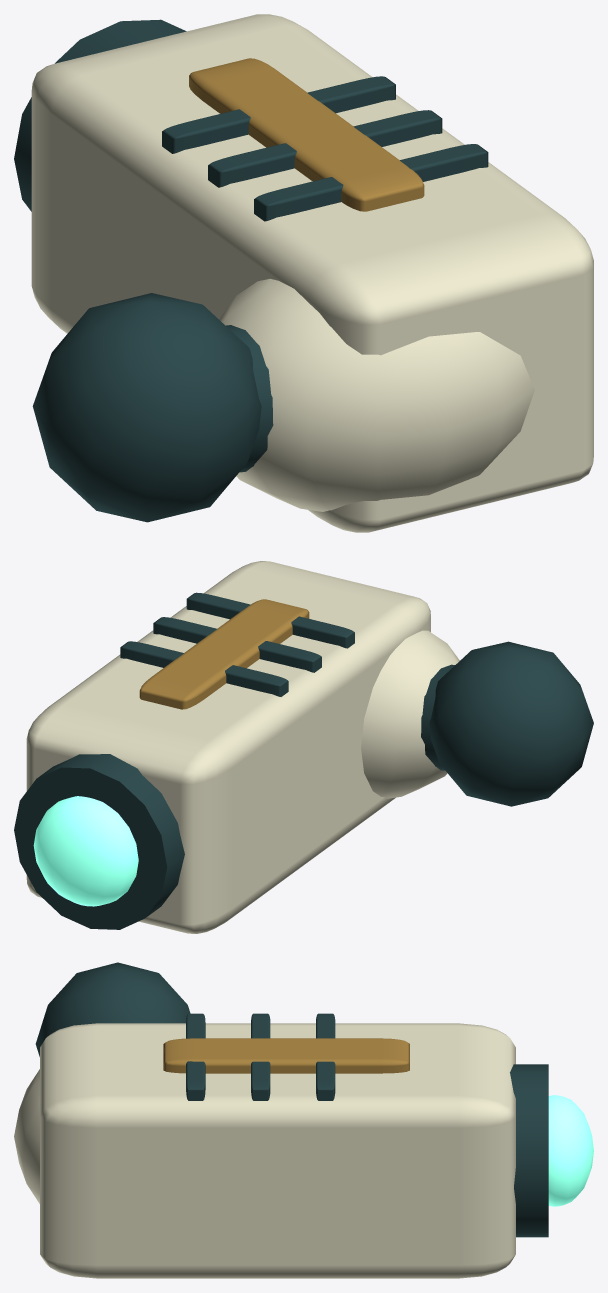
Rendered from arm-seed.glb.
3 views of the same model, one above another, from view 1: azimuth 30°, elevation 25°; view 2: azimuth 150°, elevation 25°; view 3: azimuth 270°, elevation 25° (orthographic). The views are drawn at different scales.
Visible parts, largest first — view 1: seed-barrel, sleeve, socket, gold-ridge, barrel-rib (×3), muzzle, upper; view 2: seed-barrel, socket, muzzle, sleeve, seed-core, gold-ridge, barrel-rib (×3), upper; view 3: seed-barrel, gold-ridge, socket, muzzle, seed-core, barrel-rib (×3), sleeve.
Part boxes in pixels (left/top/right/bottom): seed-barrel: left=31, top=14, right=593, bottom=532; sleeve: left=219, top=278, right=534, bottom=511; socket: left=32, top=293, right=261, bottom=522; gold-ridge: left=189, top=58, right=424, bottom=211; barrel-rib (×3): left=162, top=76, right=488, bottom=221; muzzle: left=14, top=19, right=186, bottom=211; upper: left=226, top=325, right=273, bottom=472; seed-barrel: left=26, top=561, right=430, bottom=933; socket: left=429, top=641, right=593, bottom=806; muzzle: left=14, top=754, right=184, bottom=929; sleeve: left=361, top=630, right=459, bottom=798; seed-core: left=33, top=796, right=138, bottom=906; gold-ridge: left=139, top=599, right=309, bottom=709; barrel-rib (×3): left=120, top=592, right=354, bottom=696; upper: left=421, top=664, right=454, bottom=770; seed-barrel: left=40, top=1023, right=515, bottom=1278; gold-ridge: left=163, top=1038, right=409, bottom=1073; socket: left=35, top=962, right=190, bottom=1056; muzzle: left=510, top=1064, right=548, bottom=1237; seed-core: left=548, top=1095, right=593, bottom=1206; barrel-rib (×3): left=186, top=1013, right=335, bottom=1100; sleeve: left=14, top=1069, right=39, bottom=1203.
Size of the model in its own units: 0.96 by 0.49 by 1.34.
